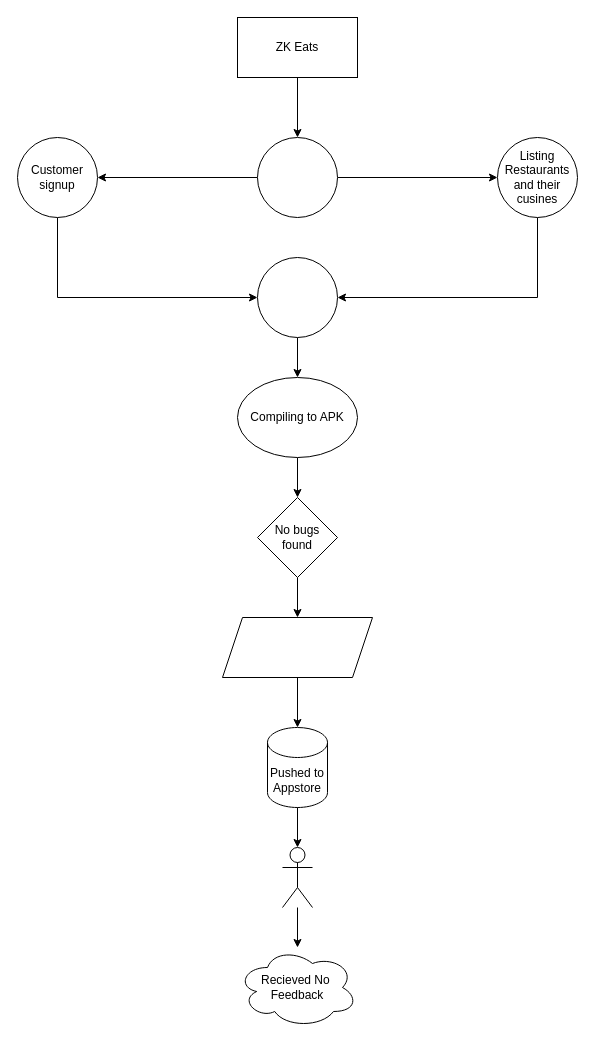
The diagram is 595 pixels wide and 1045 high, and some of its shapes have lost their labels. Here are the shapes that lost their labels. From the top down, the centre of each, then its label:
pixel 297 177: Designing UI/UX
pixel 297 297: Checkout Page &RTS
pixel 297 647: Writing Permissions for Deployment
pixel 297 877: Customer using Application
